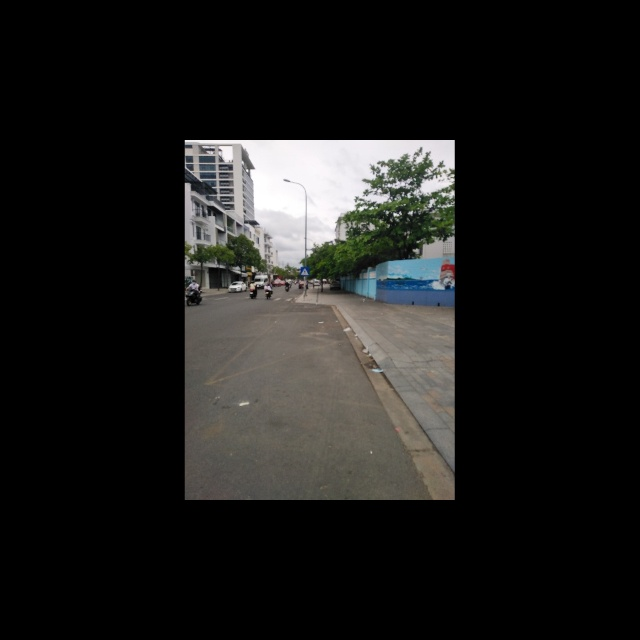Đường dành cho người đi bộ: (300, 267, 310, 276)
